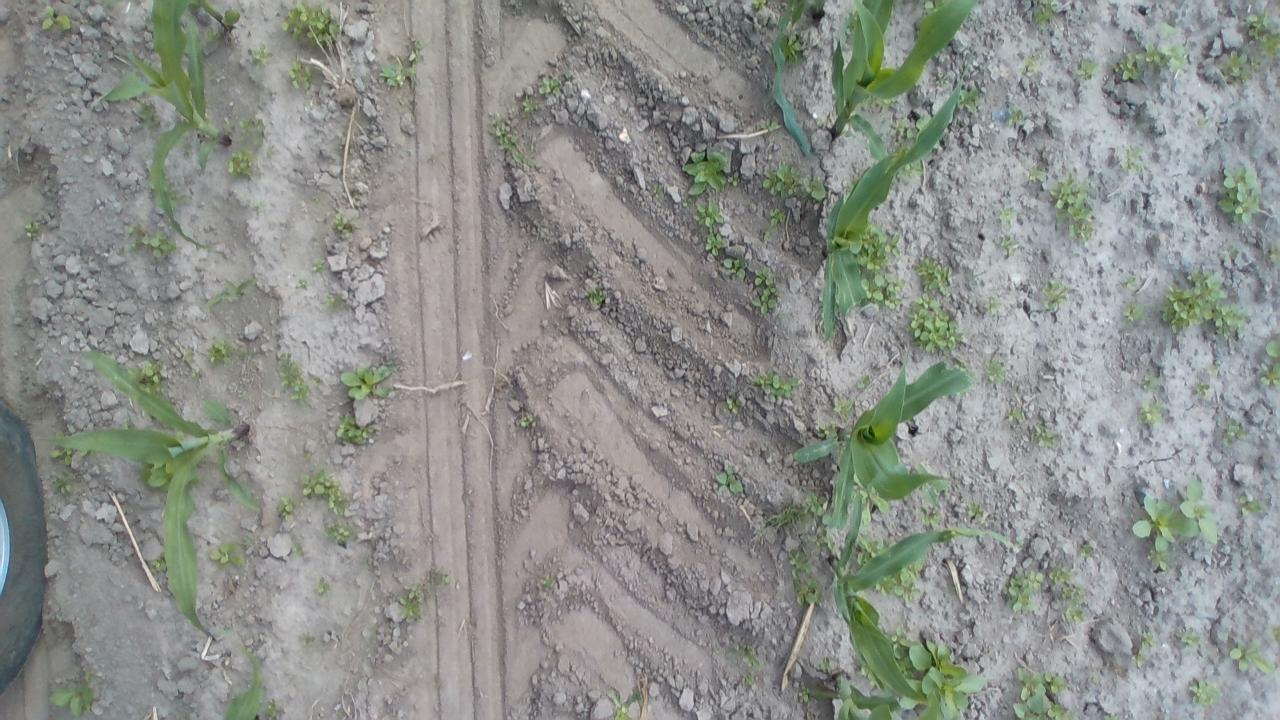Maize: (80, 348, 264, 642), (818, 48, 976, 346), (829, 490, 1012, 706), (92, 0, 230, 259), (791, 352, 973, 534), (829, 0, 977, 165), (768, 0, 828, 158), (102, 0, 240, 52), (801, 669, 920, 720), (222, 648, 266, 720), (200, 276, 256, 310)
Weeds: (882, 625, 986, 720), (1132, 480, 1217, 551), (1158, 269, 1228, 333), (854, 221, 905, 308), (904, 293, 962, 352), (1012, 666, 1074, 720), (1050, 172, 1095, 242), (868, 554, 925, 602), (280, 1, 340, 46), (763, 492, 832, 530), (1216, 166, 1261, 224), (850, 474, 890, 530), (298, 470, 346, 516), (340, 360, 394, 400), (49, 670, 94, 716), (788, 548, 823, 606), (682, 152, 728, 195), (126, 221, 177, 258), (1001, 568, 1042, 612), (278, 352, 310, 406), (1229, 638, 1275, 674), (850, 533, 897, 568), (1245, 12, 1280, 57), (1218, 50, 1262, 84), (911, 256, 950, 294), (753, 367, 798, 399), (127, 356, 165, 393), (762, 163, 801, 198), (916, 463, 946, 505), (1215, 304, 1248, 340), (488, 112, 519, 150), (136, 461, 174, 492), (335, 415, 374, 444), (209, 540, 247, 569), (889, 114, 931, 139), (226, 146, 258, 178), (607, 688, 638, 720), (1061, 585, 1086, 622), (48, 432, 74, 467), (379, 64, 416, 88), (206, 338, 236, 366), (1189, 680, 1221, 706), (1136, 42, 1168, 68), (398, 586, 422, 620), (41, 6, 70, 34), (1220, 418, 1248, 447), (751, 286, 780, 314), (1111, 53, 1140, 80), (693, 201, 723, 227), (715, 467, 744, 493), (784, 31, 806, 65), (1042, 280, 1068, 308), (289, 61, 314, 90), (135, 99, 160, 128), (51, 472, 82, 495), (1034, 0, 1057, 31), (331, 213, 359, 238), (240, 117, 264, 146), (1030, 423, 1056, 448), (1138, 400, 1164, 425), (801, 176, 827, 201), (324, 522, 356, 542), (1120, 147, 1146, 171), (722, 256, 748, 280), (251, 41, 274, 68), (1258, 360, 1280, 388), (276, 495, 301, 519), (856, 95, 898, 109), (811, 529, 837, 551), (705, 229, 726, 256), (957, 88, 978, 114), (984, 358, 1006, 382), (1168, 44, 1188, 70), (896, 158, 922, 178), (832, 396, 854, 419), (1148, 548, 1170, 570), (1238, 496, 1262, 516), (1076, 60, 1098, 81), (997, 235, 1019, 256), (918, 507, 941, 527), (1124, 302, 1144, 324), (1020, 54, 1041, 74), (538, 76, 560, 95), (741, 644, 759, 667), (1006, 106, 1026, 126), (754, 266, 774, 286), (952, 361, 974, 379), (256, 698, 276, 717), (997, 206, 1017, 225), (584, 286, 605, 304), (1180, 628, 1200, 646), (1048, 566, 1072, 581), (169, 191, 191, 207), (845, 9, 858, 36), (24, 217, 46, 232), (514, 152, 536, 167), (408, 40, 422, 63), (860, 666, 876, 686), (1138, 374, 1158, 390), (1140, 632, 1158, 649), (769, 207, 786, 225), (966, 502, 984, 518), (818, 423, 836, 439), (723, 397, 741, 413), (814, 657, 832, 673), (984, 297, 1002, 313), (924, 0, 945, 13), (314, 578, 330, 595), (1265, 340, 1280, 358), (222, 116, 237, 134), (522, 96, 536, 115), (322, 296, 339, 311), (202, 28, 220, 42), (152, 552, 166, 570), (817, 290, 824, 326), (80, 448, 100, 460), (1160, 22, 1176, 37), (162, 169, 172, 192), (724, 643, 739, 658), (1194, 382, 1209, 397), (1007, 406, 1022, 421), (762, 118, 778, 132), (1132, 650, 1144, 668), (1080, 543, 1094, 558), (1029, 167, 1045, 180), (1268, 243, 1280, 260), (540, 573, 554, 587), (188, 470, 202, 484), (311, 259, 326, 272), (856, 374, 871, 387), (833, 292, 841, 316), (181, 142, 194, 156), (1227, 244, 1239, 259), (727, 171, 739, 186), (799, 686, 810, 702), (1271, 625, 1280, 644), (520, 415, 533, 428), (252, 199, 266, 211), (652, 182, 662, 198), (750, 0, 767, 9), (292, 546, 304, 558), (182, 349, 194, 361), (174, 429, 186, 441), (764, 226, 774, 240), (1124, 276, 1136, 287), (300, 632, 310, 645), (936, 74, 949, 84), (1100, 713, 1118, 720), (190, 368, 201, 379), (264, 146, 274, 158), (1014, 536, 1026, 546), (244, 538, 256, 548), (296, 278, 308, 288), (683, 197, 695, 206), (744, 674, 754, 684), (122, 420, 132, 430), (817, 118, 828, 127), (240, 350, 253, 357), (312, 377, 321, 386), (442, 575, 452, 583), (312, 195, 322, 202), (564, 71, 572, 79), (1198, 120, 1206, 128), (353, 189, 360, 198)
